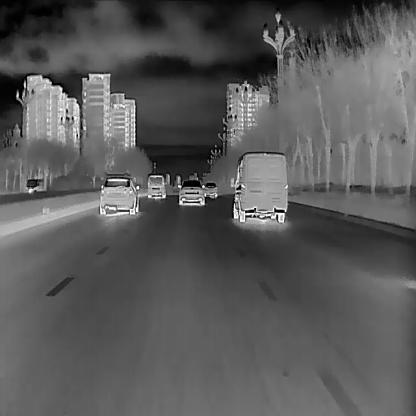car: (229, 149, 288, 222), (98, 172, 139, 214), (177, 178, 205, 206), (146, 172, 166, 198), (24, 178, 44, 194), (203, 182, 218, 198)
